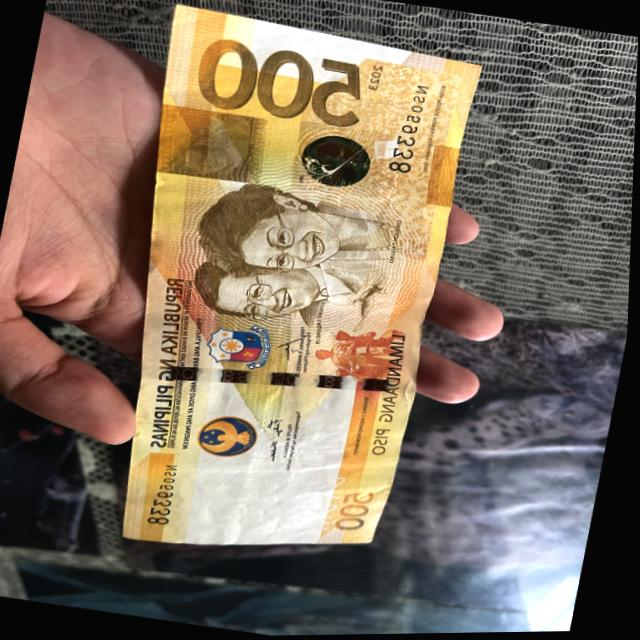concealed_value: (151, 104, 272, 187)
optically_variable_device: (292, 127, 386, 200)
security_thread: (145, 366, 419, 395)
see_through_mark: (318, 472, 354, 537)
serial_number: (389, 80, 434, 177), (144, 457, 194, 538)
value: (190, 37, 372, 135)
value_watermark: (263, 512, 308, 534)
